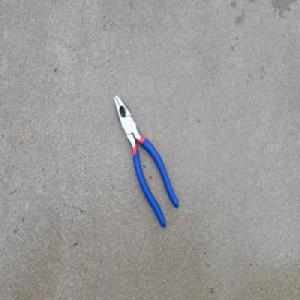Pliers: (113, 92, 179, 229)
